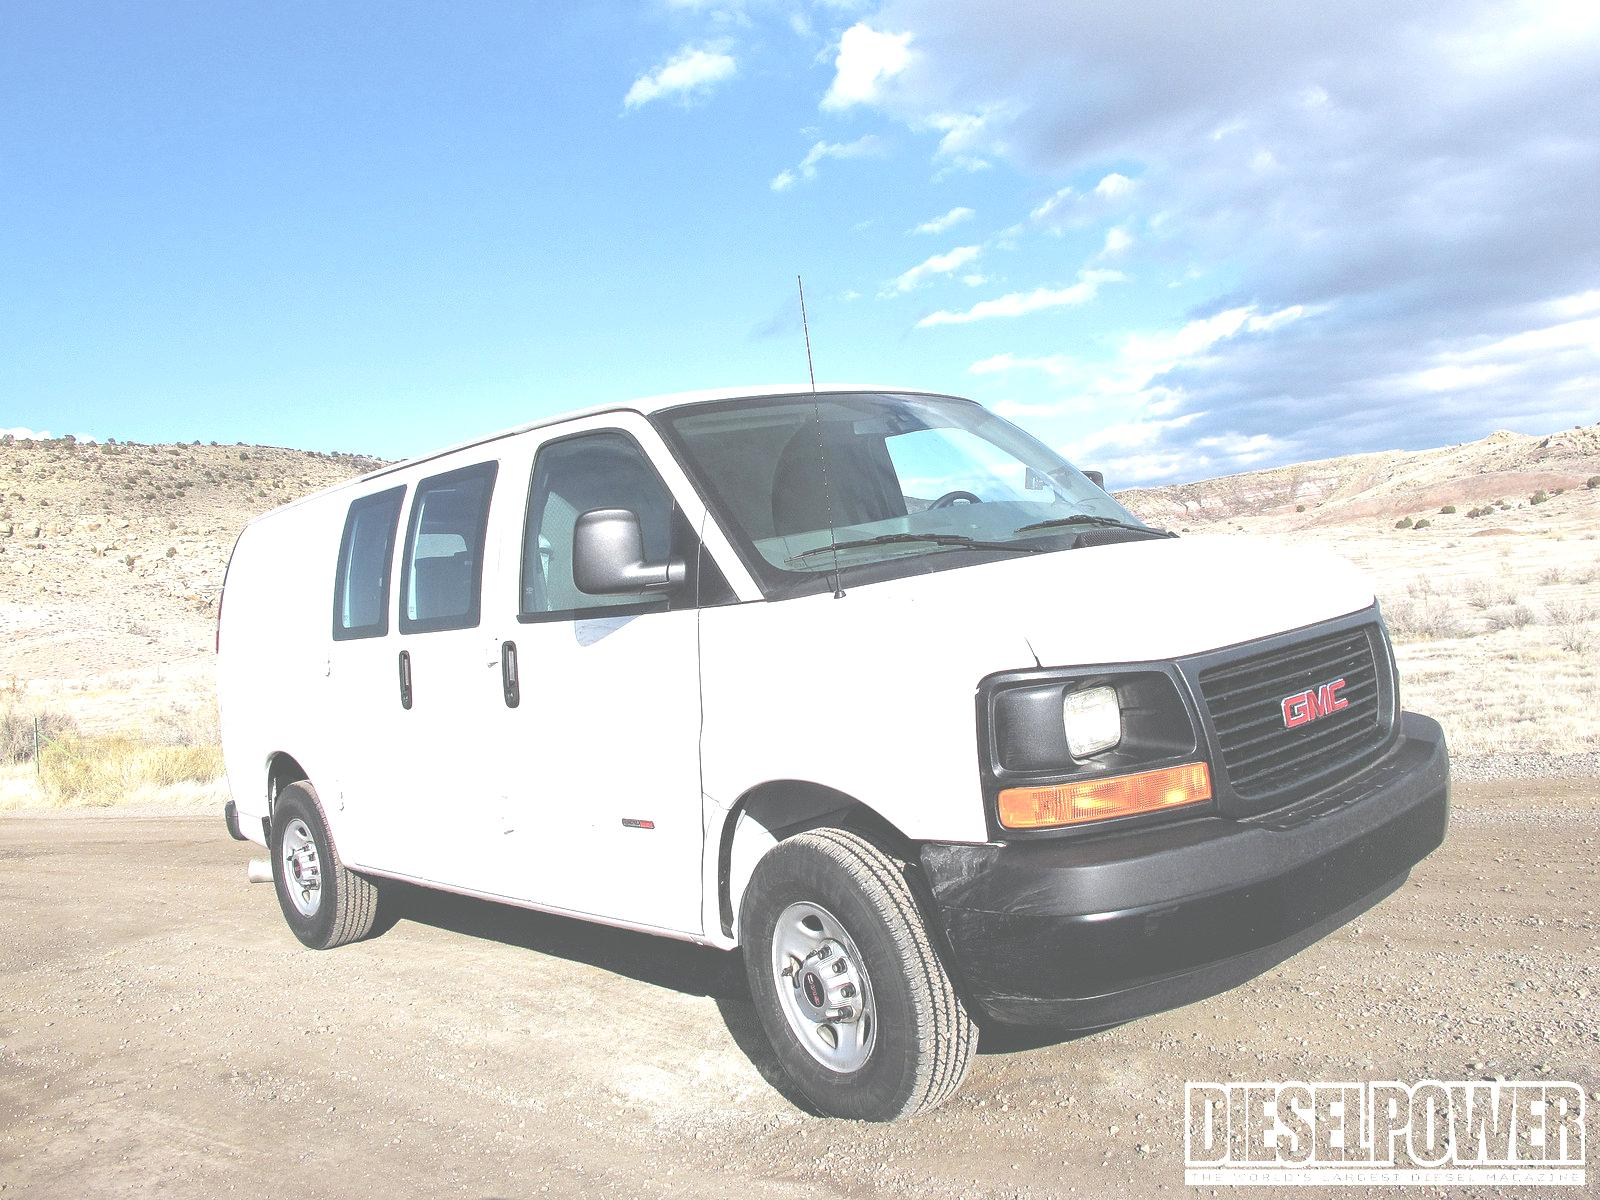GMC: (1264, 669, 1386, 740)
